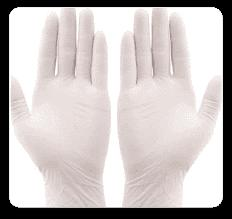gloves: (8, 7, 220, 206)
